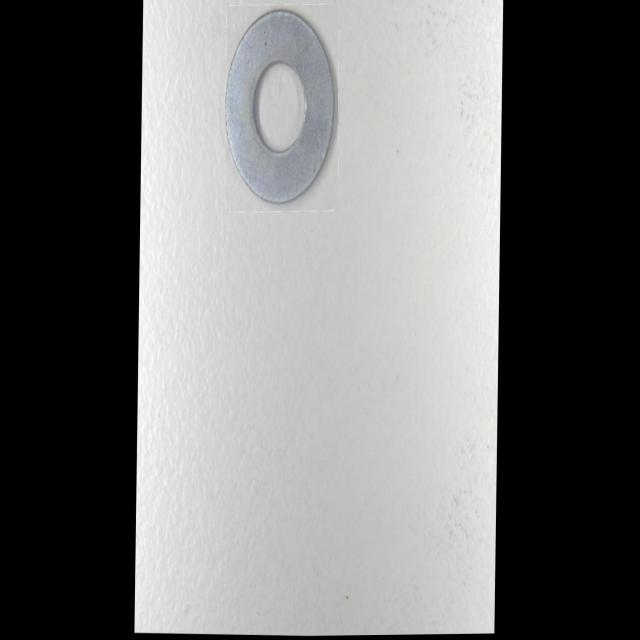washer: (226, 5, 339, 212)
